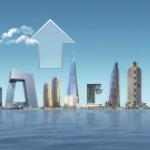缺口: (27, 17, 75, 69)
